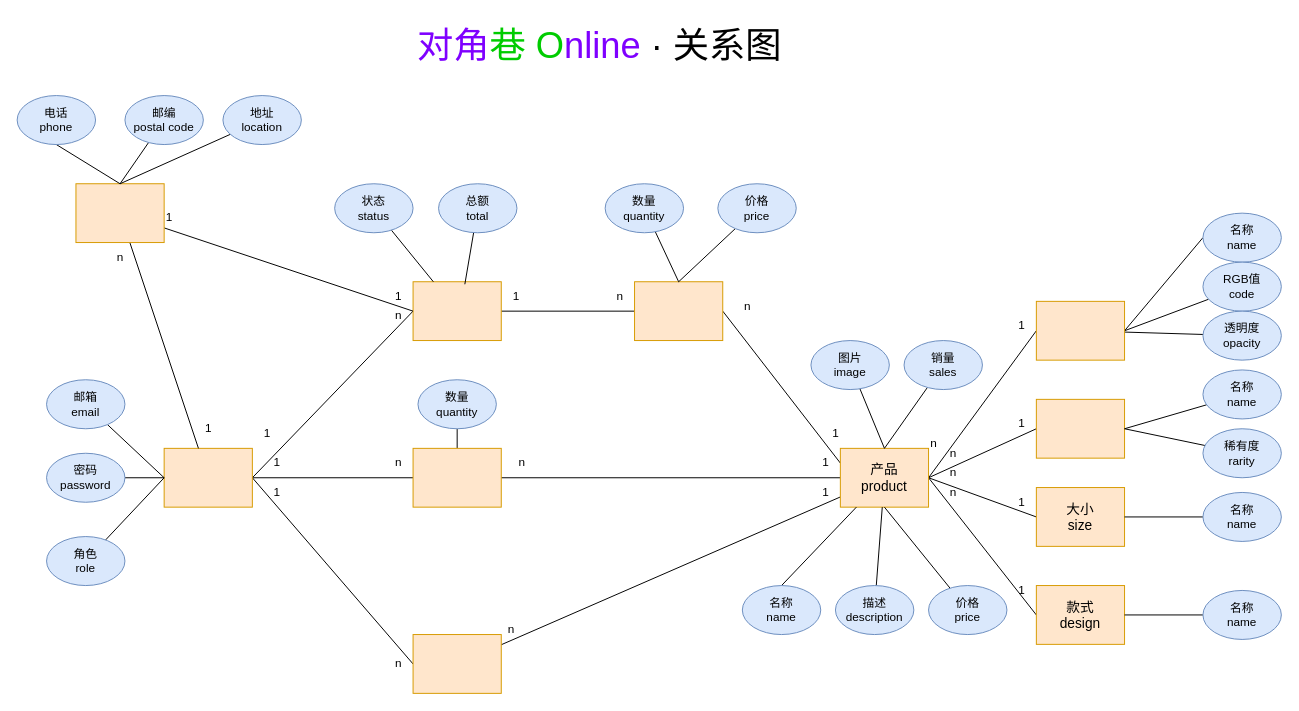
The diagram is 1299 pixels wide and 711 high, and some of its shapes have lost their labels. Each missing label, with the centre of its shape:
收藏夹 favorites: the point at 456,663
收货地址 delivery address: the point at 119,213
用户 user: the point at 207,477
类型 type: the point at 1080,428
订单 user: the point at 456,311
订单项 order item: the point at 678,311
购物车 cart item: the point at 456,477
颜色 color: the point at 1080,330
